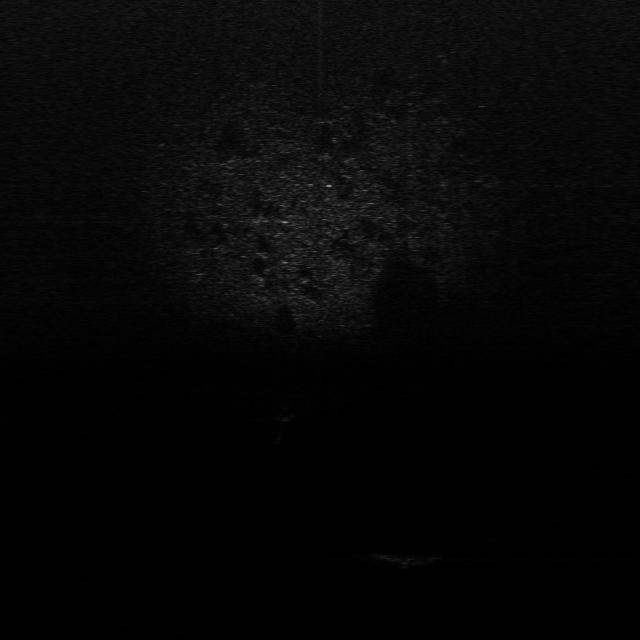ball: (277, 403, 298, 422)
metal bucket: (379, 545, 442, 572)
